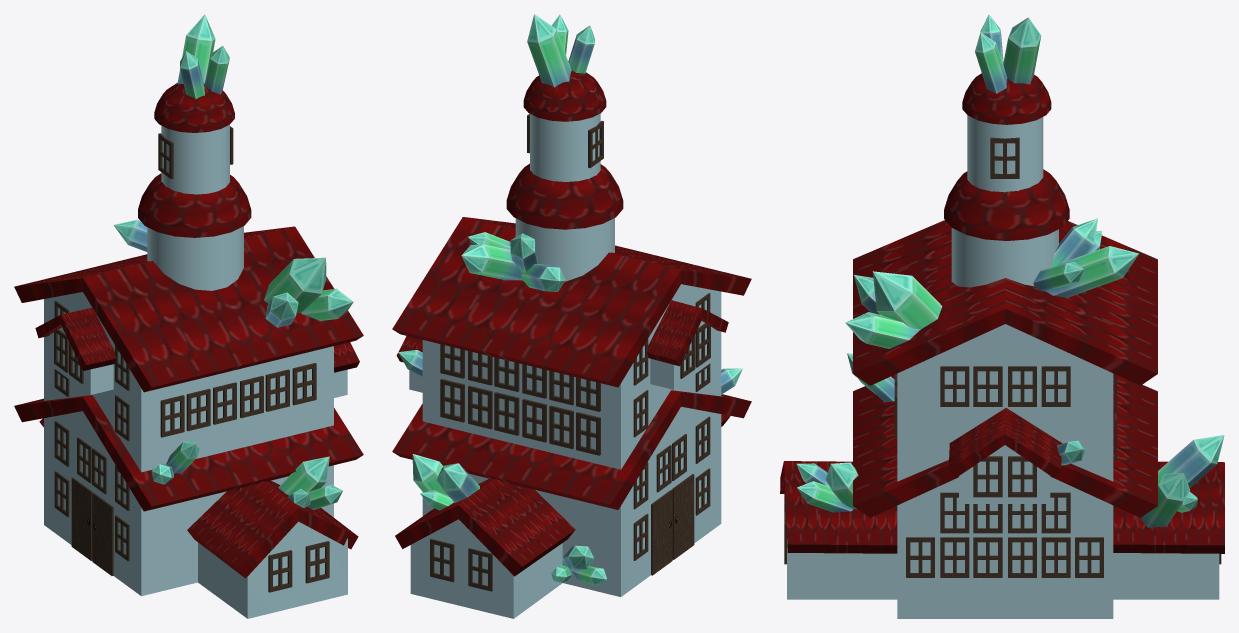
The model's file is big house.FBX.
The picture shows the model from 3 angles, left to right: view 1: azimuth 30°, elevation 25°; view 2: azimuth 150°, elevation 25°; view 3: azimuth 270°, elevation 25°; orthographic projection. The views are drawn at different scales.
Visible parts, largest first — view 1: Box001; view 2: Box001; view 3: Box001.
Boxes of the visible parts, x1,y1,x2,y2 form: Box001: (14,14,363,618); Box001: (392,14,751,618); Box001: (780,14,1224,618).
Bounding box in the file's own units: 445 × 793 × 567.
